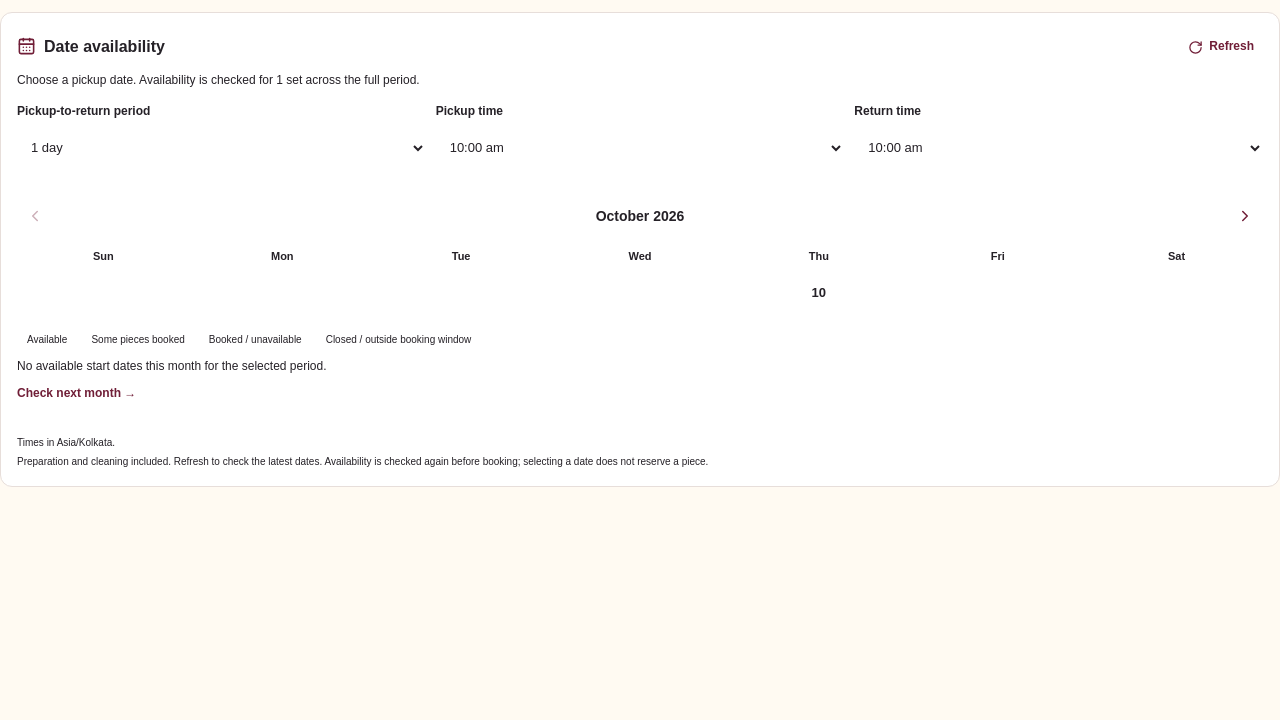
Test: customer calendar checks the full custody period without presenting it as billed use days
The image size is (1280, 720).
Expected: the dropdown labelled "Pickup-to-return period" is shown, [17, 126, 426, 170]
What coordinates should you click on to do the following:
click the button "10"
I would click on:
 (819, 298)
Its box is [732, 276, 905, 320].
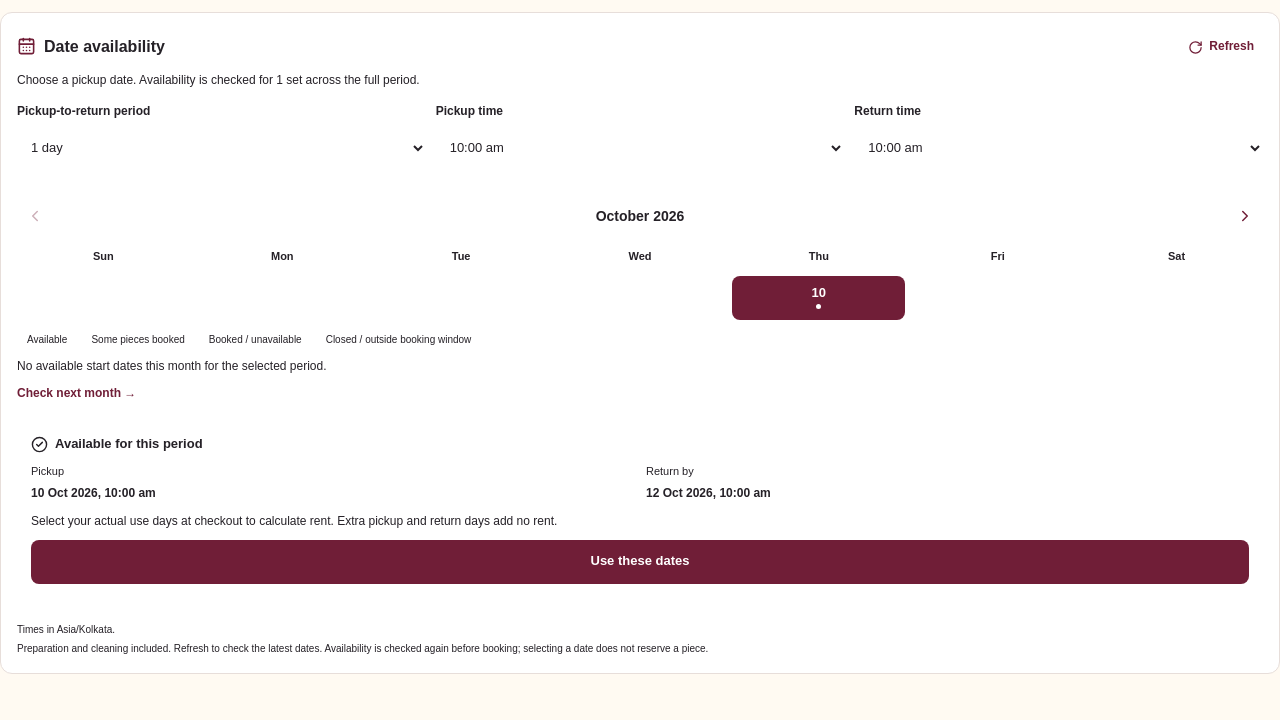
Now the text "Select your actual use days at checkout" is shown, box [31, 514, 557, 528]
